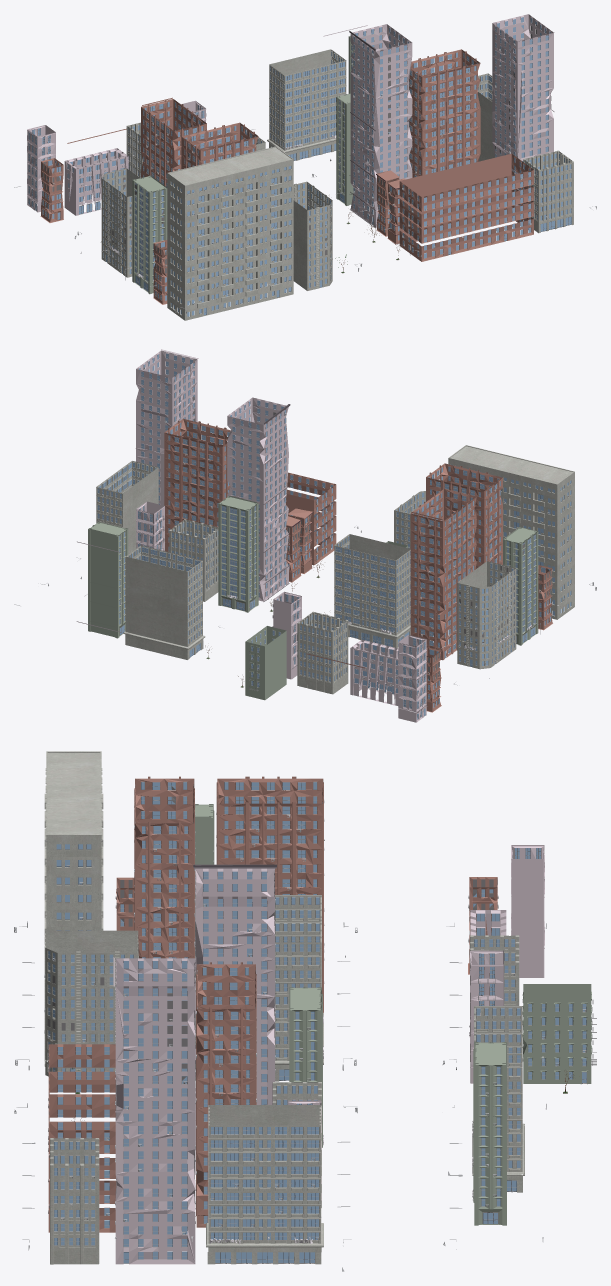
Rendered from block-scene-1.glb.
3 renders of one model, top to bottom at view 1: azimuth 30°, elevation 25°; view 2: azimuth 150°, elevation 25°; view 3: azimuth 270°, elevation 25°, orthographic. The views are drawn at different scales.
Parts seen in each view (by area): view 1: Object_15, Object_7; view 2: Object_15, Object_7; view 3: Object_15, Object_7.
Boxes of the visible parts, x1,y1,x2,y2 form: Object_15: (14,14,596,316); Object_7: (100,49,573,320); Object_15: (14,349,596,722); Object_7: (96,445,574,694); Object_15: (14,776,596,1271); Object_7: (44,751,524,1264).
Size of the model in its own units: 70 by 28.38 by 53.09.
Materials: 2 (2 with a texture image).
